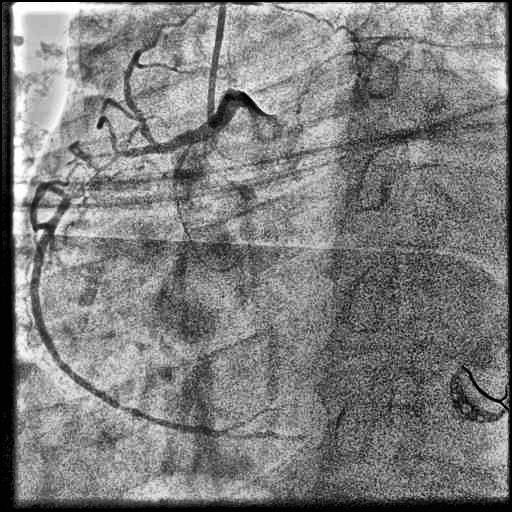pborca: (222, 406, 286, 432)
pda: (229, 432, 301, 442)
rca: (30, 123, 227, 437)
